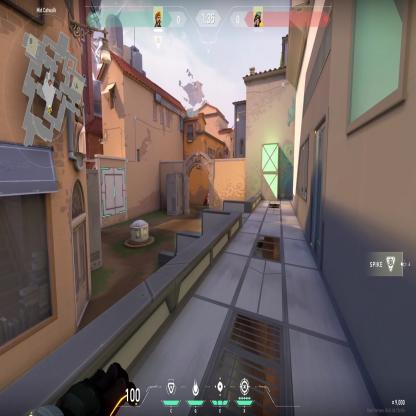enemy: (206, 192, 209, 208)
